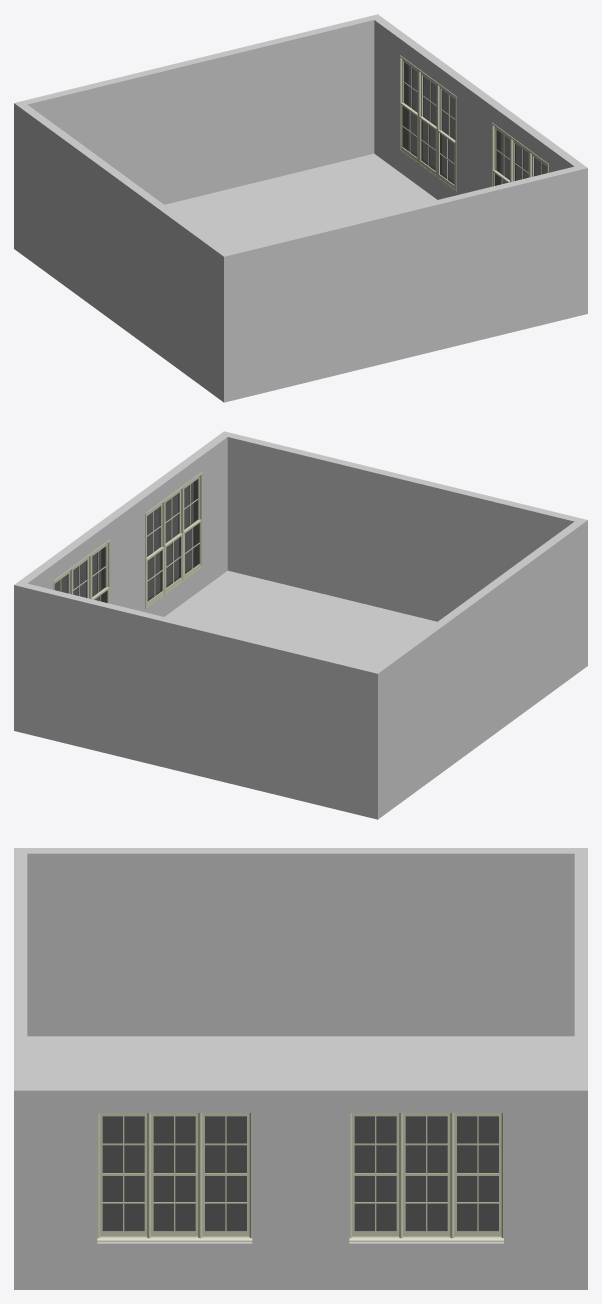
Rendered from Room_2.fbx.
3 renders of one model, top to bottom at view 1: azimuth 30°, elevation 25°; view 2: azimuth 150°, elevation 25°; view 3: azimuth 270°, elevation 25°, orthographic. The views are drawn at different scales.
Visible parts, largest first — view 1: Walls1, Wall1, Frame2, Frame1, Glass10, Glass11, Glass8, Glass7, Glass9, Glass1, Glass12; view 2: Walls1, Wall1, Frame1, Frame2, Glass4, Glass3, Glass6, Glass5, Glass1, Glass8, Glass2; view 3: Walls1, Wall1, Frame1, Frame2, Glass1, Glass2, Glass6, Glass7, Glass8, Glass12, Glass3, Glass5 (+16 smaller).
Part boxes in pixels (left/top/right/bottom): Walls1: left=14, top=14, right=587, bottom=390; Wall1: left=14, top=153, right=587, bottom=402; Frame2: left=399, top=55, right=456, bottom=192; Frame1: left=491, top=122, right=548, bottom=186; Glass10: left=402, top=106, right=416, bottom=157; Glass11: left=421, top=120, right=435, bottom=170; Glass8: left=441, top=90, right=455, bottom=139; Glass7: left=404, top=62, right=417, bottom=112; Glass9: left=440, top=133, right=454, bottom=184; Glass1: left=496, top=130, right=509, bottom=179; Glass12: left=423, top=76, right=436, bottom=126; Walls1: left=14, top=431, right=587, bottom=807; Wall1: left=14, top=570, right=587, bottom=819; Frame1: left=145, top=472, right=202, bottom=609; Frame2: left=53, top=539, right=110, bottom=603; Glass4: left=147, top=550, right=162, bottom=601; Glass3: left=185, top=523, right=199, bottom=574; Glass6: left=165, top=493, right=179, bottom=542; Glass5: left=166, top=537, right=180, bottom=587; Glass1: left=147, top=506, right=160, bottom=556; Glass8: left=92, top=547, right=105, bottom=596; Glass2: left=184, top=479, right=197, bottom=529; Walls1: left=14, top=848, right=587, bottom=1273; Wall1: left=14, top=1036, right=587, bottom=1289; Frame1: left=97, top=1113, right=252, bottom=1241; Frame2: left=349, top=1113, right=503, bottom=1241; Glass1: left=205, top=1116, right=246, bottom=1172; Glass2: left=102, top=1116, right=144, bottom=1172; Glass6: left=153, top=1116, right=195, bottom=1172; Glass7: left=457, top=1116, right=498, bottom=1172; Glass8: left=354, top=1116, right=396, bottom=1172; Glass12: left=405, top=1116, right=447, bottom=1172; Glass3: left=102, top=1176, right=144, bottom=1231; Glass5: left=153, top=1176, right=195, bottom=1231.
Bounding box in the file's own units: 10 × 3.83 × 10.
